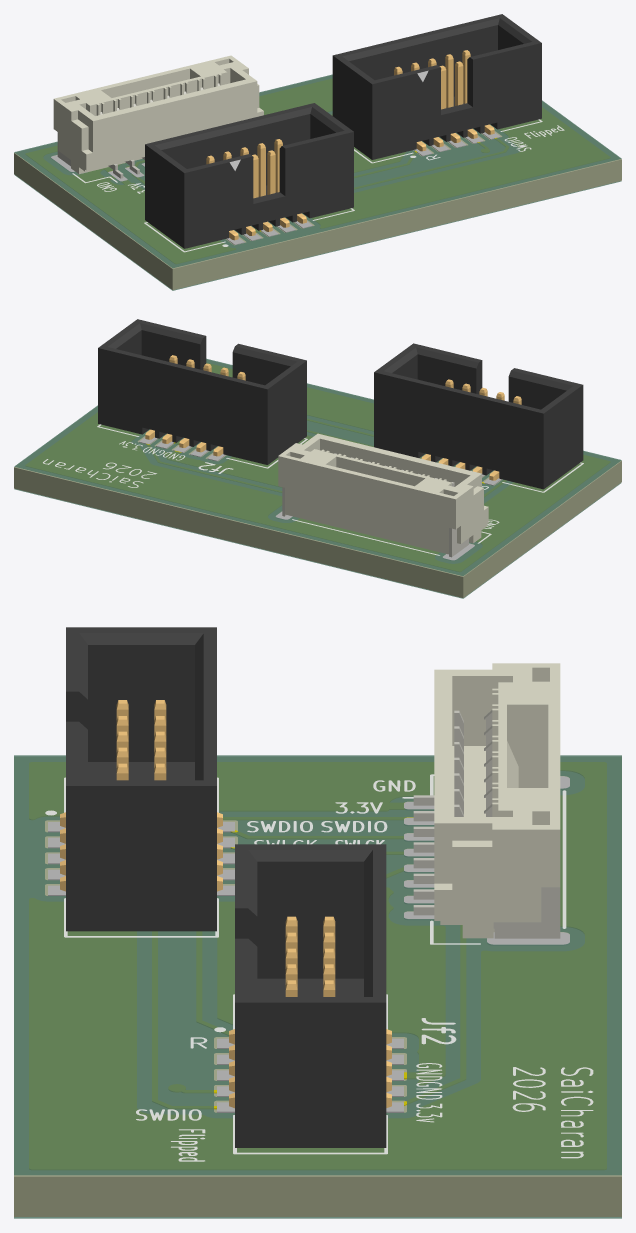
File: aeropcb.glb
The picture shows the model from 3 angles, top to bottom: view 1: azimuth 30°, elevation 25°; view 2: azimuth 150°, elevation 25°; view 3: azimuth 270°, elevation 25°; orthographic projection. The views are drawn at different scales.
Visible parts, largest first — view 1: =>[0:1:1:8], Jf1, Jf2, =>[0:1:1:10], =>[0:1:1:4], J2, =>[0:1:1:5], =>[0:1:1:7], =>[0:1:1:9]; view 2: =>[0:1:1:8], Jf2, Jf1, =>[0:1:1:10], =>[0:1:1:4], J2, =>[0:1:1:7], =>[0:1:1:9], =>[0:1:1:5]; view 3: =>[0:1:1:8], =>[0:1:1:4], =>[0:1:1:10], Jf2, Jf1, J2, =>[0:1:1:7], =>[0:1:1:5], =>[0:1:1:9].
Part boxes in pixels (x1,y1,x2,y2): =>[0:1:1:8]: [14, 74, 621, 268]; Jf1: [145, 103, 353, 248]; Jf2: [332, 14, 541, 159]; =>[0:1:1:10]: [14, 76, 621, 289]; =>[0:1:1:4]: [26, 79, 609, 263]; J2: [53, 55, 263, 178]; =>[0:1:1:5]: [51, 132, 500, 244]; =>[0:1:1:7]: [72, 119, 564, 252]; =>[0:1:1:9]: [14, 174, 621, 290]; =>[0:1:1:8]: [14, 358, 621, 575]; Jf2: [98, 319, 306, 464]; Jf1: [374, 343, 583, 489]; =>[0:1:1:10]: [14, 360, 621, 597]; =>[0:1:1:4]: [26, 364, 609, 571]; J2: [278, 433, 488, 557]; =>[0:1:1:7]: [43, 424, 583, 555]; =>[0:1:1:9]: [14, 482, 621, 598]; =>[0:1:1:5]: [139, 437, 501, 560]; =>[0:1:1:8]: [14, 755, 621, 1175]; =>[0:1:1:4]: [29, 762, 606, 1169]; =>[0:1:1:10]: [14, 757, 621, 1216]; Jf2: [229, 844, 391, 1147]; Jf1: [60, 627, 222, 931]; J2: [413, 663, 560, 938]; =>[0:1:1:7]: [45, 774, 593, 1161]; =>[0:1:1:5]: [48, 776, 569, 1112]; =>[0:1:1:9]: [14, 1217, 621, 1218].
Size of the model in its own units: 0.0335 by 0.00724 by 0.0205.
